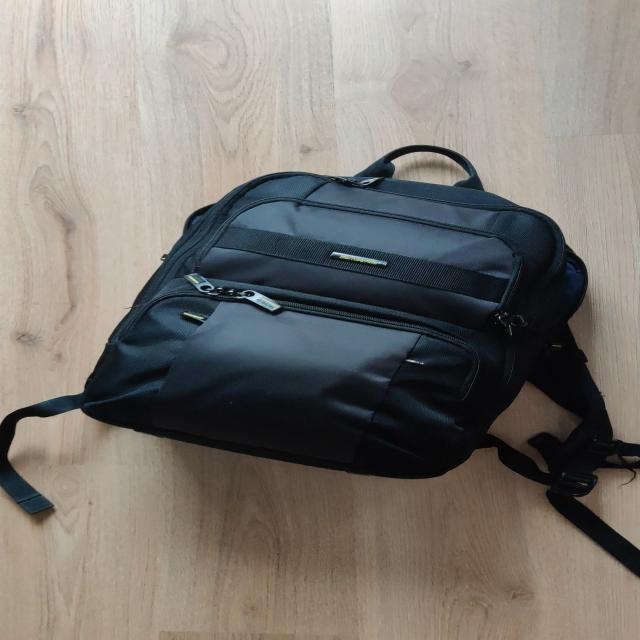backpack: (55, 138, 625, 490)
